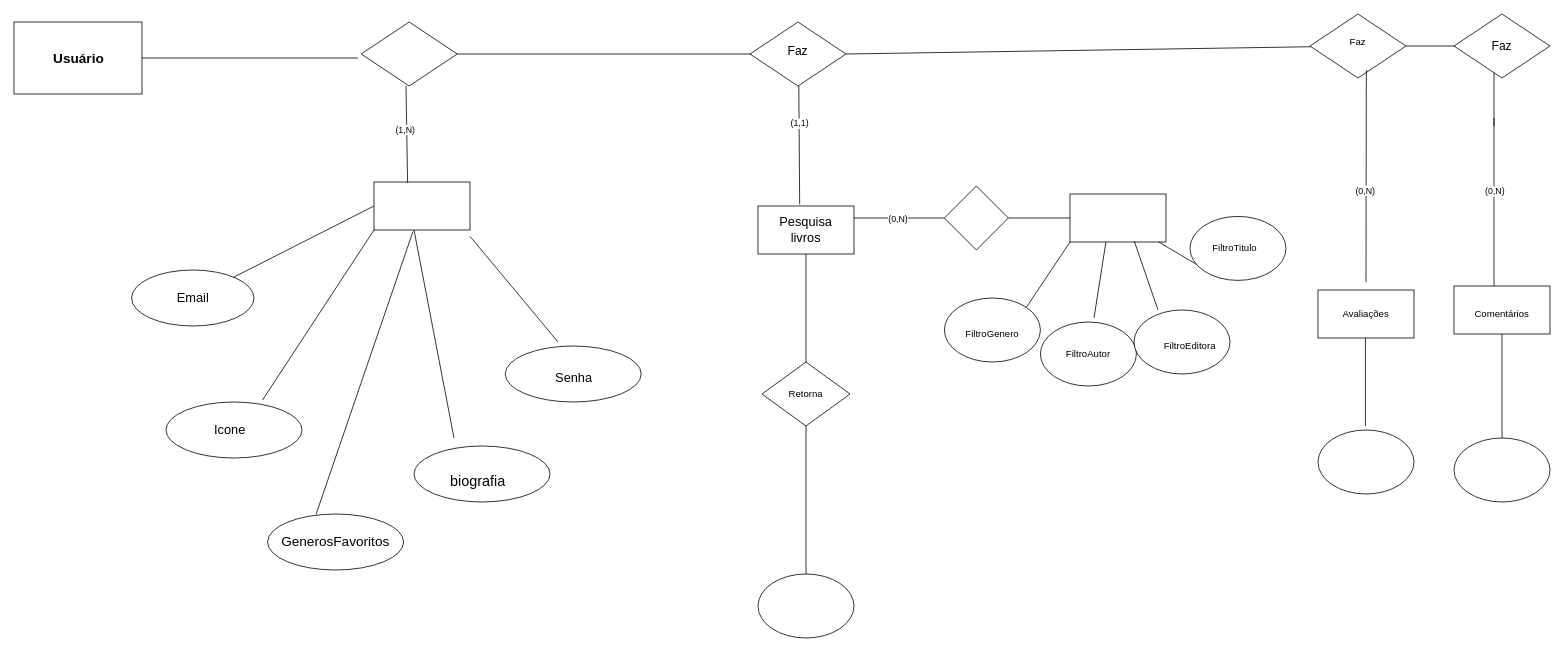
Some shapes in this 1564 by 652 pixel diagram are drawn without their labels. Here are the shapes that lost their labels. From the top down, the centre of each, then its label:
(x=408, y=53): Edita
(x=421, y=205): Perfil
(x=976, y=217): Acessa
(x=1117, y=217): Filtros
(x=1365, y=461): NumeroDeEstrelas
(x=1501, y=469): TextoComentario
(x=805, y=605): LivroPesquisado
